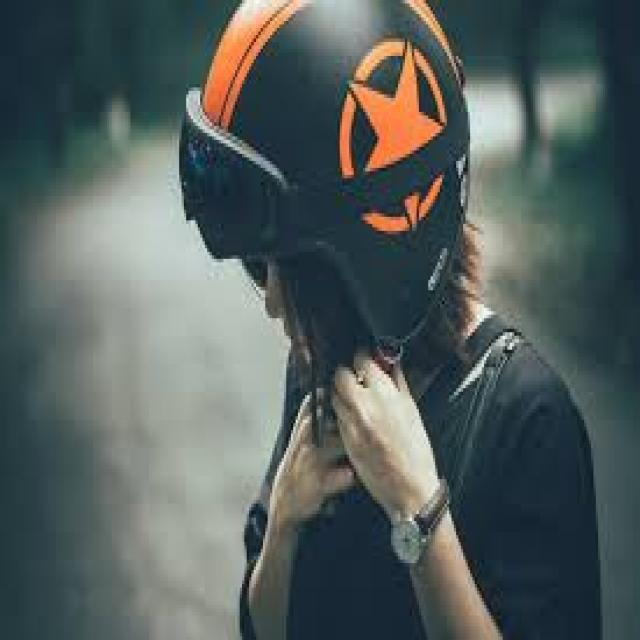Helmet: (158, 0, 490, 359)
